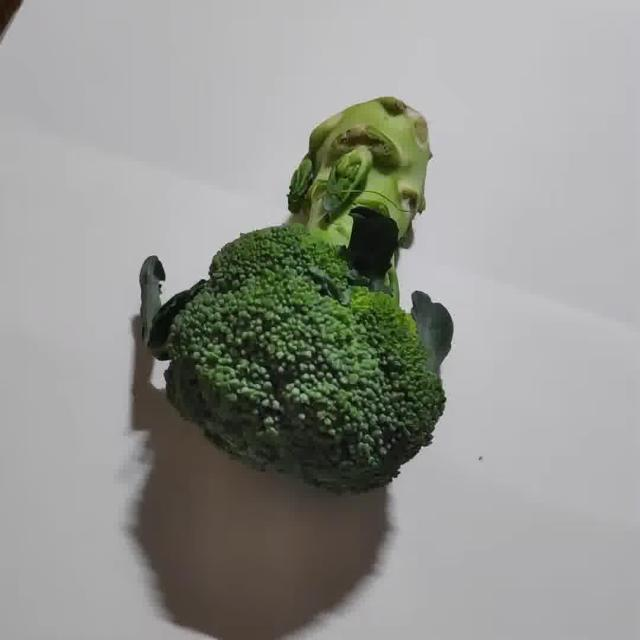Broccoli: (164, 97, 451, 492)
